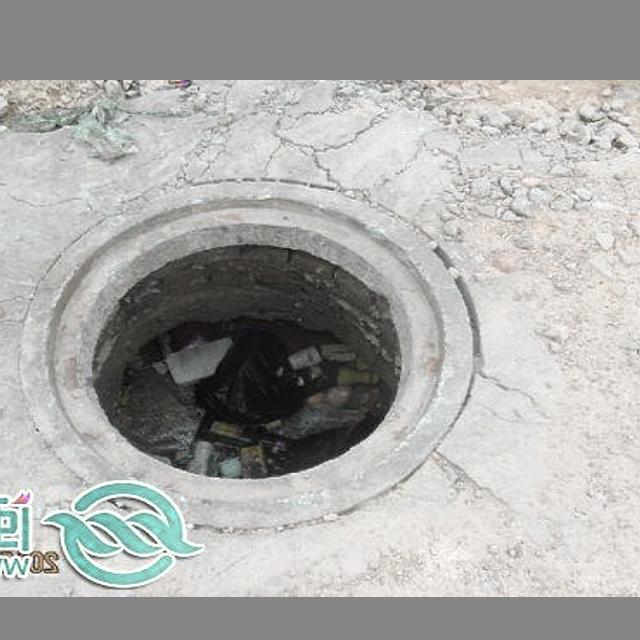lose: (10, 174, 477, 537)
